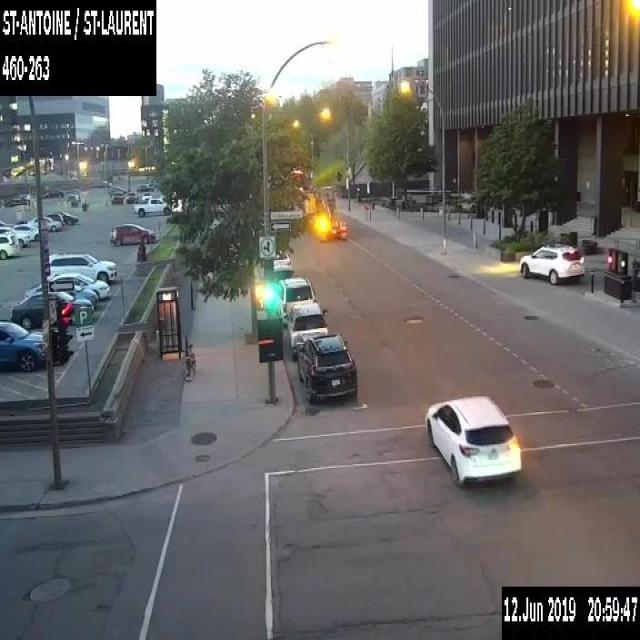vehicle: (424, 395, 521, 488), (296, 332, 357, 404), (291, 168, 346, 242), (10, 290, 94, 330), (519, 242, 584, 283), (284, 301, 327, 360), (0, 319, 45, 371), (46, 251, 116, 282), (275, 274, 314, 328), (47, 271, 110, 298), (110, 222, 155, 245), (65, 283, 98, 307), (133, 197, 171, 214), (27, 214, 61, 232), (0, 226, 30, 246), (0, 233, 20, 259), (12, 222, 39, 240), (273, 251, 291, 272), (43, 211, 64, 226), (54, 210, 78, 223), (6, 193, 30, 206), (65, 188, 80, 204), (44, 186, 65, 197), (125, 189, 138, 203), (110, 190, 124, 202), (136, 182, 154, 191), (141, 191, 151, 201), (0, 219, 13, 225)
